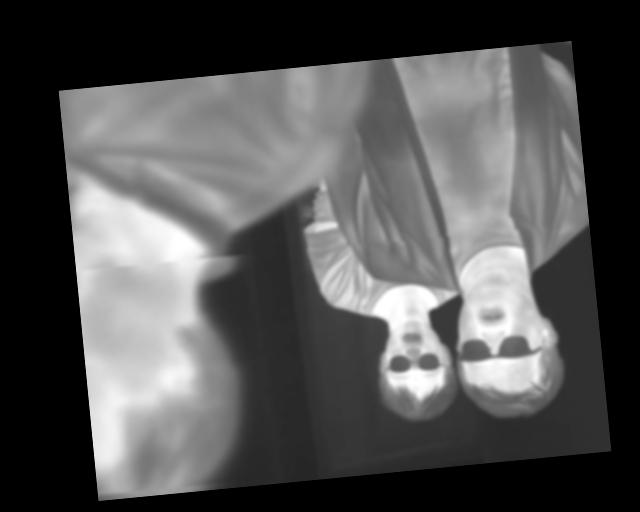face: (449, 271, 568, 425), (370, 314, 459, 426)
